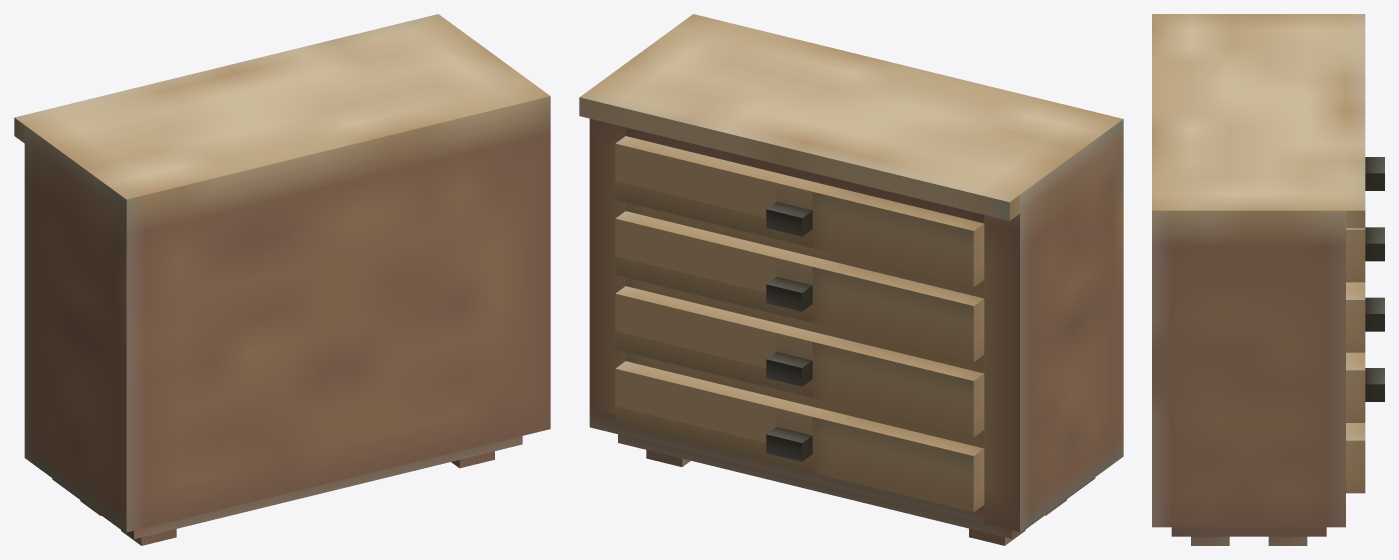
File: DresserWoodTiles_00.fbx
3 views of the same model, side by side, from view 1: azimuth 30°, elevation 25°; view 2: azimuth 150°, elevation 25°; view 3: azimuth 270°, elevation 25° (orthographic). The views are drawn at different scales.
Visible parts, largest first — view 1: DresserWoodTiles_00; view 2: DresserWoodTiles_00; view 3: DresserWoodTiles_00.
Boxes of the visible parts, x1,y1,x2,y2 form: DresserWoodTiles_00: [14, 14, 550, 545]; DresserWoodTiles_00: [579, 14, 1123, 545]; DresserWoodTiles_00: [1152, 14, 1384, 545].
Size of the model in its own units: 120 by 60 by 100.
Materials: 1 (1 with a texture image).
